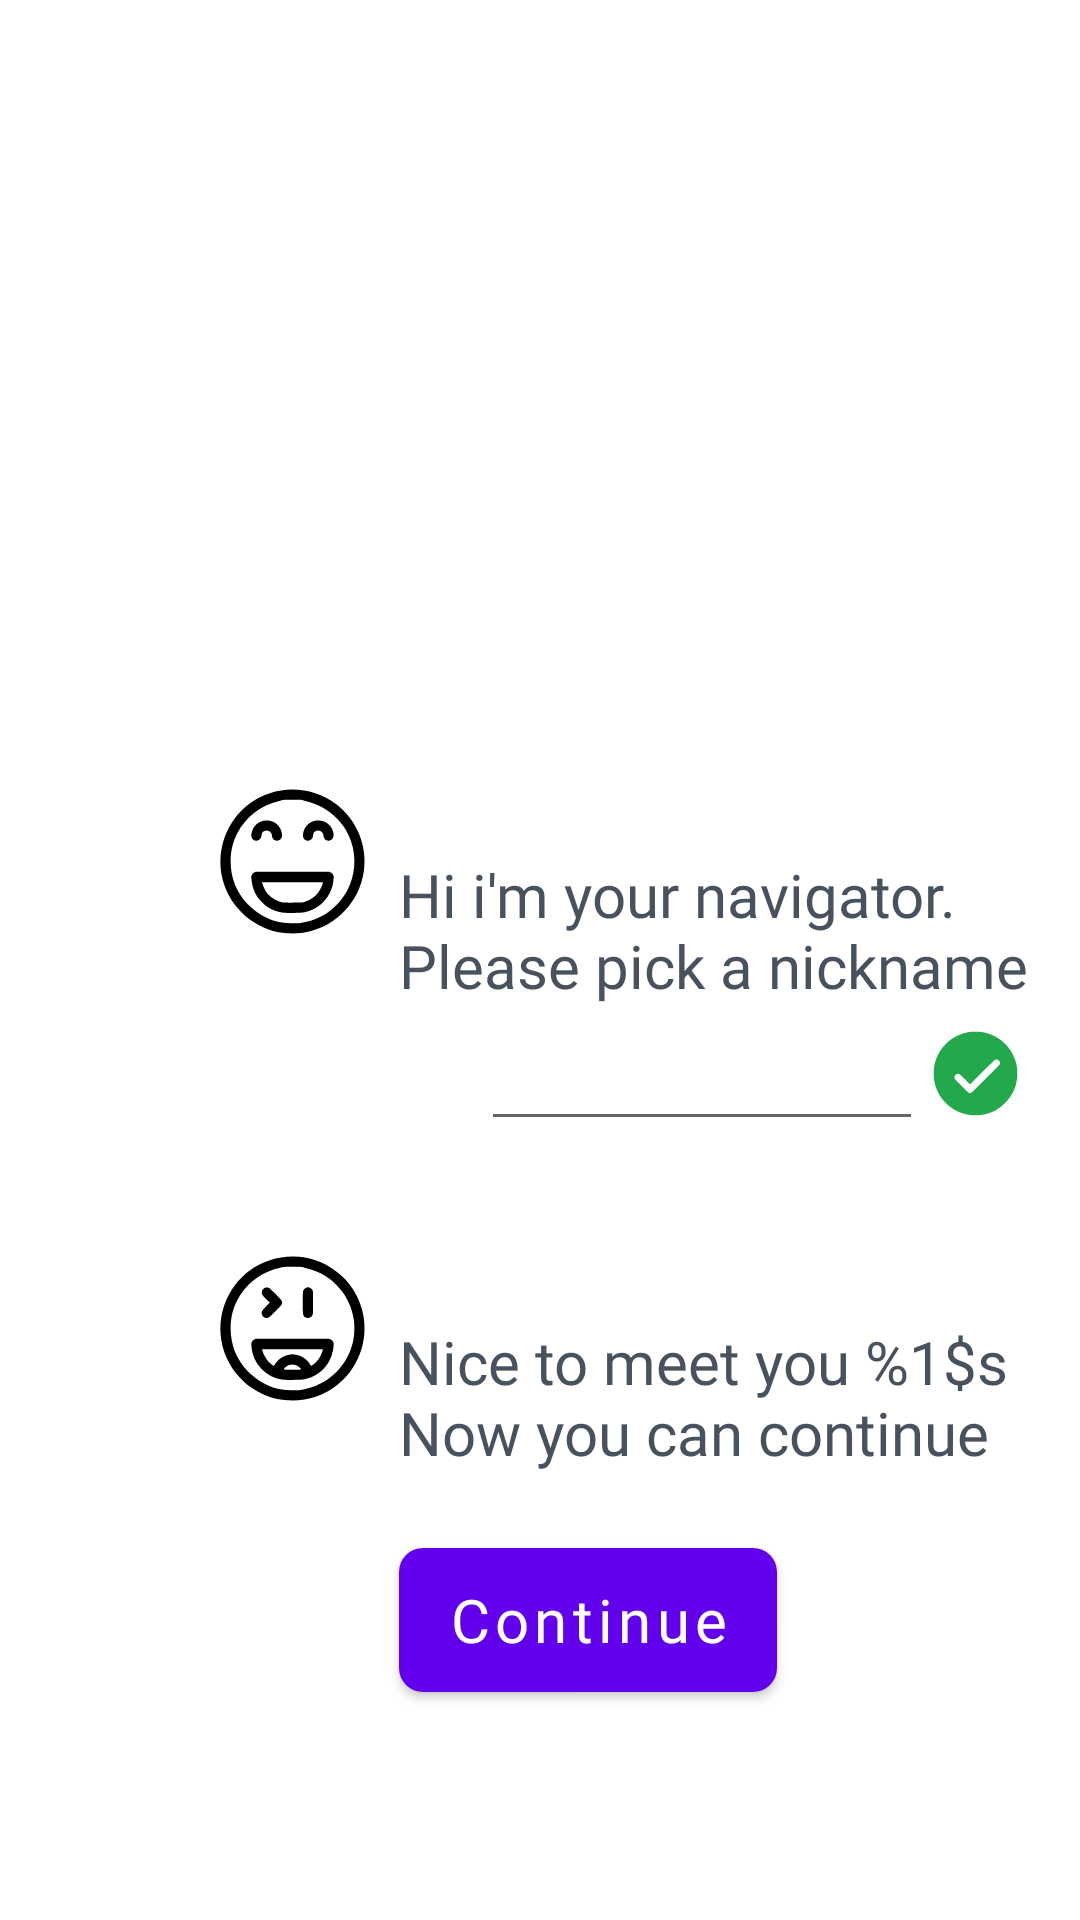

Named icons in this screenshot (1080w x 1920h) and their bounding boxes, [left=x1, top=y1, right=x2, bottom=y2]:
smiley navigator: [left=220, top=789, right=365, bottom=934]
success smiley navigator: [left=220, top=1256, right=365, bottom=1401]
